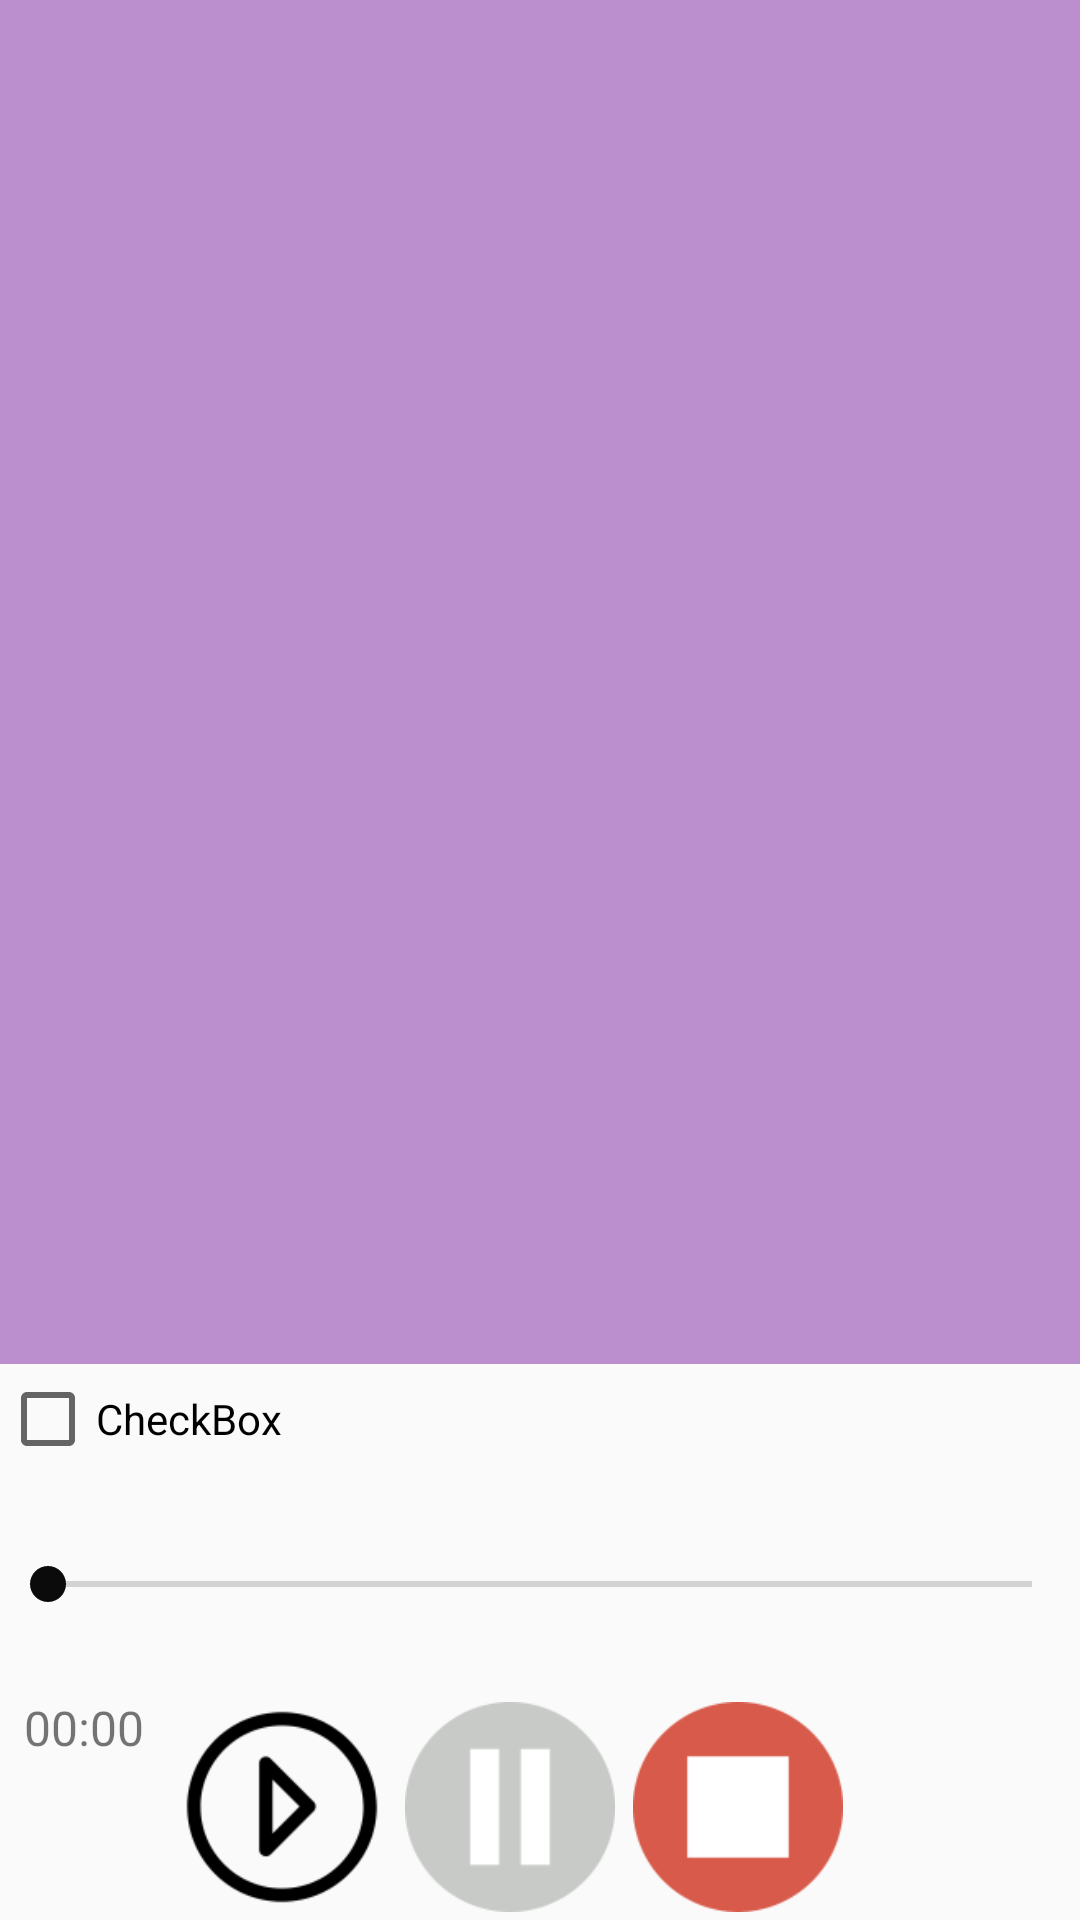

Screen size 1080×1920. Icon name, then its center in pixels as [x,y]:
playy: [282,1807]
stop: [738,1807]
